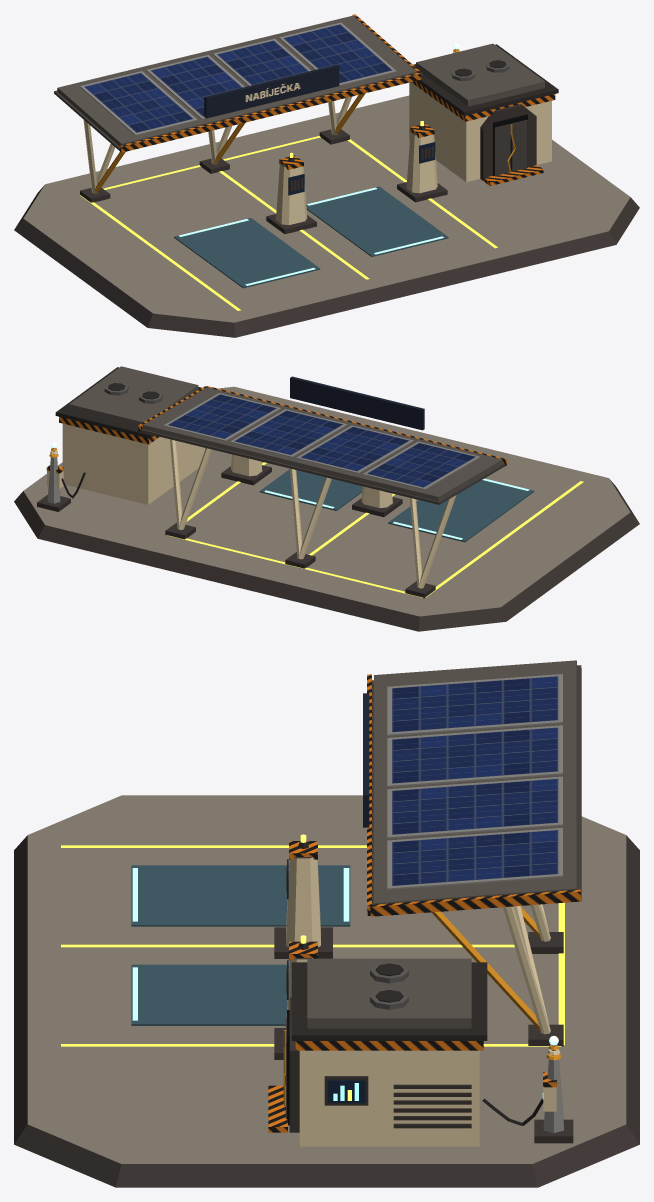
Rendered from budova-nabijecka.glb.
3 renders of one model, top to bottom at view 1: azimuth 30°, elevation 25°; view 2: azimuth 150°, elevation 25°; view 3: azimuth 270°, elevation 25°, orthographic. The views are drawn at different scales.
Parts seen in each view (by area): view 1: budova-nabijecka; view 2: budova-nabijecka; view 3: budova-nabijecka.
Part boxes in pixels (x1,y1,x2,y2): budova-nabijecka: (14,14,639,337); budova-nabijecka: (14,366,639,631); budova-nabijecka: (14,660,639,1187).
Size of the model in its own units: 23 by 6.2 by 16.
22 materials, 3 textured.
